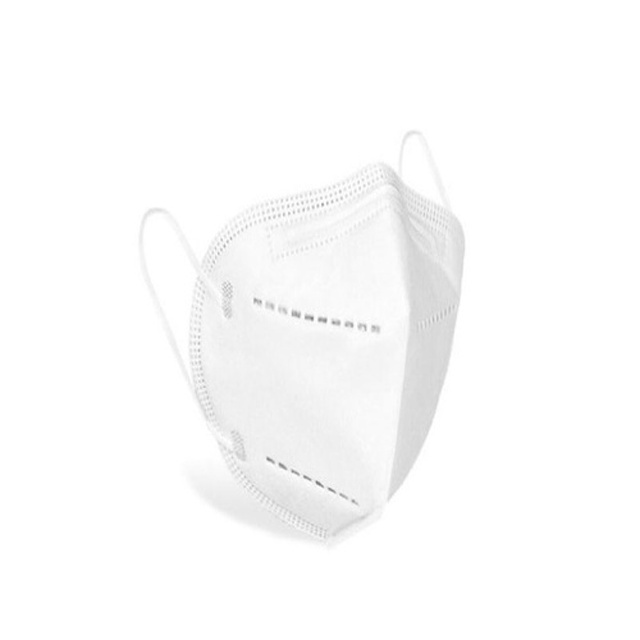mask: (133, 126, 470, 543)
